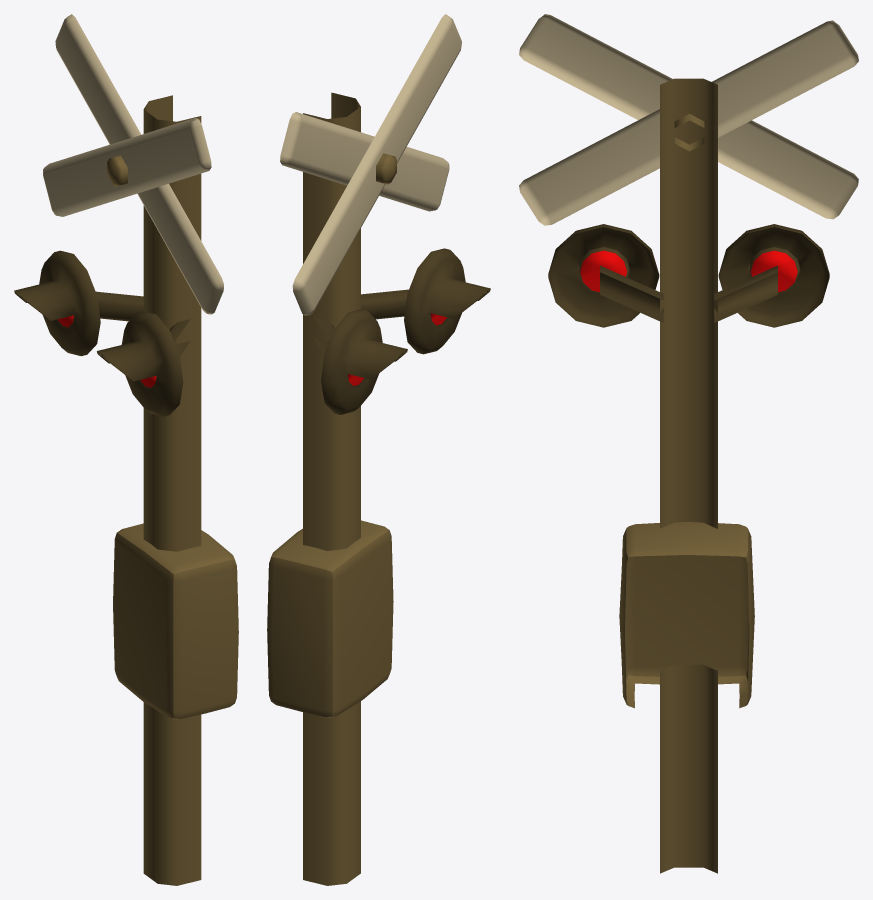
Rendered from ChocolateBoomGate_BASE_MDL.fbx.
The picture shows the model from 3 angles, left to right: view 1: azimuth 30°, elevation 25°; view 2: azimuth 150°, elevation 25°; view 3: azimuth 270°, elevation 25°; orthographic projection. The views are drawn at different scales.
Visible parts, largest first — view 1: railway_sign_GEO; view 2: railway_sign_GEO; view 3: railway_sign_GEO.
Boxes of the visible parts, bbox=[...] form: railway_sign_GEO: bbox=[14, 14, 238, 885]; railway_sign_GEO: bbox=[267, 14, 490, 885]; railway_sign_GEO: bbox=[519, 14, 858, 873].
Bounding box in the file's own units: 101 × 534 × 195.
